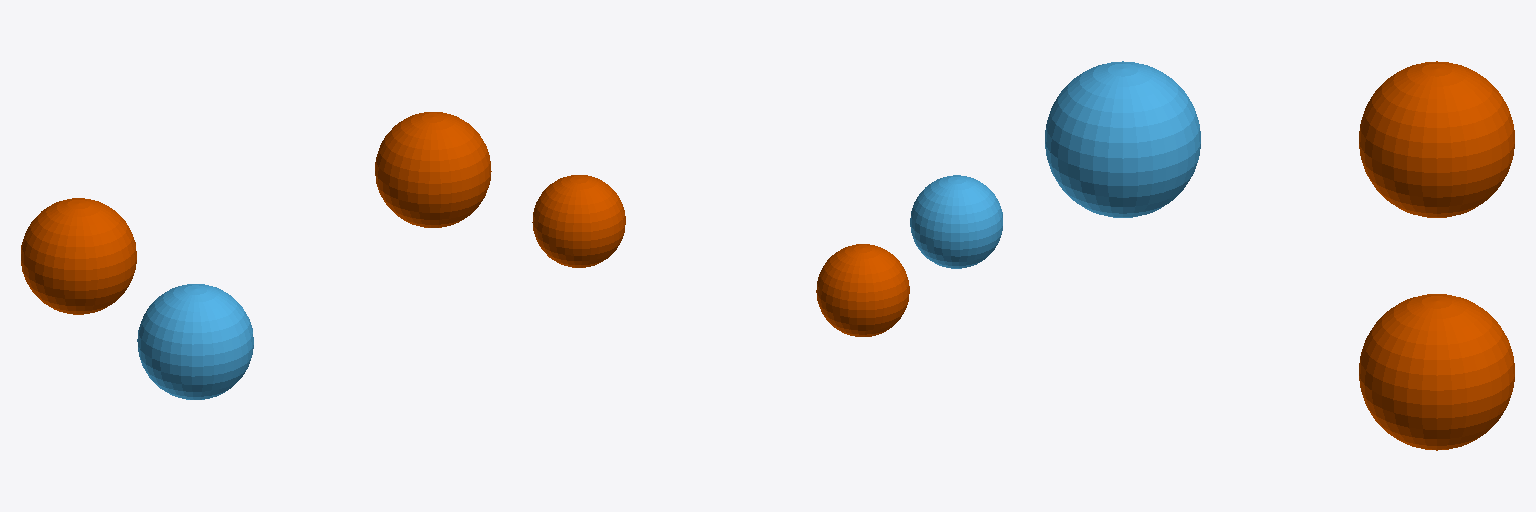
URDF robot description (mini_cheetah):
<?xml version="1.0" ?>
<robot name="mini_cheetah" xmlns:xacro="http://ros.org/wiki/xacro">
    <link name="body">
        <inertial>
            <mass value="3.3"/>
            <origin xyz="0.0 0.0 0.0"/>
            <inertia ixx="0.011253" ixy="0" ixz="0" iyy="0.362030" iyz="0" izz="0.042673"/>
        </inertial>
        <visual>
            <geometry>
                <mesh filename="meshes/mini_body.obj"/>
            </geometry>
            <origin rpy="0.0 0.0 0.0" xyz="0.0 0.0 0.0"/>
        </visual>
        <collision>
            <geometry>
                <mesh filename="meshes/mini_body.obj"/>
            </geometry>
            <origin rpy="0 0 0" xyz="0 0 0"/>
        </collision>
    </link>

    <!--!!!!!!!!!!!! Front Right Leg !!!!!!!!!!!!!!!!!!!!!!!!!!!!!!!!!!!!-->
    <joint name="torso_to_abduct_fr_j" type="continuous">
        <axis xyz="1 0 0"/>
        <origin rpy="0 0 0" xyz="0.19 -0.049 0.0"/>
        <parent link="body"/>
        <child link="abduct_fr"/>
    </joint>
    <link name="abduct_fr">
        <inertial>
            <mass value="0.54"/>
            <origin xyz="0.0 0.036 0."/>
            <inertia ixx="0.000381" ixy="0.000058" ixz="0.00000045" 
                iyy="0.000560" iyz="0.00000095" izz="0.000444"/>
        </inertial>
        <visual>
            <geometry>
                <mesh filename="meshes/mini_abad.obj"/>
            </geometry>
            <origin rpy="0.0 0.0 0.0" xyz="0.0 0.0 0.0"/>
        </visual>
        <collision>
            <geometry>
                <mesh filename="meshes/mini_abad.obj"/>
            </geometry>
            <origin rpy="0 0 0" xyz="0 0 0"/>
        </collision>
    </link>

    <joint name="abduct_fr_to_thigh_fr_j" type="continuous">
        <axis xyz="0 1 0"/>
        <origin rpy="0.0 0.0 0.0" xyz="0.0 -0.062 0.00"/>
        <parent link="abduct_fr"/>
        <child link="thigh_fr"/>
    </joint>
    <link name="thigh_fr">
        <inertial>
            <mass value="0.634"/>
            <origin xyz="0.0 0.016 -0.02"/>
            <inertia ixx="0.001983" ixy="0.000245" ixz="0.000013" 
                iyy="0.002103" iyz="0.0000015" izz="0.000408"/>
        </inertial>
        <visual>
            <geometry>
                <mesh filename="meshes/mini_upper_link.obj"/>
            </geometry>
            <origin rpy="0.0 0.0 0.0" xyz="0.0 0.0 0.0"/>
        </visual>
        <collision>
            <geometry>
                <mesh filename="meshes/mini_upper_link.obj"/>
            </geometry>
            <origin rpy="0 0 0" xyz="0 0 0"/>
        </collision>
    </link>

    <joint name="thigh_fr_to_knee_fr_j" type="continuous">
        <axis xyz="0 1 0"/>
        <origin rpy="0.0 0 0.0" xyz="0.0 0.0 -0.15"/>
        <parent link="thigh_fr"/>
        <child link="shank_fr"/>
    </joint>
    <link name="shank_fr">
        <inertial>
            <mass value="0.064"/>
            <origin xyz="0.0 0.0 -0.209"/>
            <inertia ixx="0.000245" ixy="0" ixz="0.0" iyy="0.000248" iyz="0" izz="0.000006"/>
        </inertial>
        <visual>
            <geometry>
                <mesh filename="meshes/mini_lower_link.obj"/>
            </geometry>
            <origin rpy="0.0 0.0 0.0" xyz="0.0 0.0 0.0"/>
        </visual>
        <collision>
            <geometry>
                <mesh filename="meshes/mini_lower_link.obj"/>
            </geometry>
            <origin rpy="0 0 0" xyz="0 0 0"/>
        </collision>
    </link>

    <joint name="ankle_fr" type="fixed">
        <axis xyz="0 1 0"/>
        <origin rpy="0 0 0" xyz="0.0 0.0 -0.135"/>
        <parent link="shank_fr"/>
        <child link="foot_fr" />
    </joint>
    <link name="foot_fr">
        <inertial>
            <mass value="0.123"/>
            <origin xyz="0.0 0.0 0.0"/>
            <inertia ixx="0.00001" ixy="0" ixz="0.0" iyy="0.00001" iyz="0" izz="0.00001"/>
        </inertial>
        <collision>
            <geometry>
                <sphere radius="0.03"/>
            </geometry>
            <origin rpy="0.0 0.0 0.0" xyz="0.0 0.0 0.0"/>
        </collision>
    </link>

<!--!!!!!!!!!!!! Front Left Leg !!!!!!!!!!!!!!!!!!!!!!!!!!!!!!!!!!!!-->
  <joint name="torso_to_abduct_fl_j" type="continuous">
      <axis xyz="1 0 0"/>
      <origin rpy="0 0 0" xyz="0.175 0.1 0.0"/>
      <parent link="body"/>
      <child link="abduct_fl"/>
  </joint>
  <link name="abduct_fl">
      <inertial>
          <mass value="2.1656"/>
          <origin xyz="0.0 0. 0."/>
          <inertia ixx="0.003735" ixy="0.0" ixz="0.0" iyy="0.01391" iyz="0.0" izz="0.01355"/>
      </inertial>
      <visual>
          <geometry>
              <sphere radius="0.05" />
          </geometry>
          <origin rpy = "0 0 0" xyz = "0.0 0 0"/>
      </visual>
  </link>

  <joint name="abduct_fl_to_thigh_fl_j" type="continuous">
      <axis xyz="0 1 0"/>
      <origin rpy="0.0 0.0 0.0" xyz="0.0 0.02 -0.02"/>
      <parent link="abduct_fl"/>
      <child link="thigh_fl"/>
  </joint>
  <link name="thigh_fl">
      <inertial>
          <mass value="3.2"/>
          <origin xyz="0.0 0.00 -0.075"/>
          <inertia ixx="0.038482" ixy="0" ixz="0.0" iyy="0.039835" iyz="-0.003" izz="0.0042934"/>
      </inertial>
      <visual>
          <geometry>
              <capsule radius="0.05" length="0.12" />
          </geometry>
          <origin rpy = "0 0 0" xyz = "0 0 0"/>
      </visual>
  </link>

  <joint name="thigh_fl_to_knee_fl_j" type="continuous">
      <axis xyz="0 1 0"/>
      <origin rpy="0.0 0 0.0" xyz="0.0 0.0 -0.15"/>
      <parent link="thigh_fl"/>
      <child link="shank_fl"/>
  </joint>
  <link name="shank_fl">
      <inertial>
          <mass value="0.649"/>
          <origin xyz="0.0 0.0 -0.075"/>
          <inertia ixx="0.00338" ixy="0" ixz="0.0" iyy="0.00338" iyz="0" izz="0.000011"/>
      </inertial>
      <visual>
          <geometry>
              <capsule radius="0.05" length="0.12" />
          </geometry>
          <origin rpy = "0 0 0" xyz = "0 0 0"/>
      </visual>
  </link>

  <joint name="ankle_fl" type="fixed">
      <axis xyz="0 1 0"/>
      <origin rpy="0 0 0" xyz="0.0 0.0 -0.135"/>
      <parent link="shank_fl"/>
      <child link="foot_fl" />
  </joint>
  <link name="foot_fl">
      <inertial>
          <mass value="0.123"/>
          <origin xyz="0.0 0.0 0.0"/>
          <inertia ixx="0.00001" ixy="0" ixz="0.0" iyy="0.00001" iyz="0" izz="0.00001"/>
      </inertial>
      <collision>
          <geometry>
              <sphere radius="0.03"/>
          </geometry>
          <origin rpy="0.0 0.0 0.0" xyz="0.0 0.0 0.0"/>
      </collision>
  </link>
<!--!!!!!!!!!!!! Hind Right Leg !!!!!!!!!!!!!!!!!!!!!!!!!!!!!!!!!!!!-->
  <joint name="torso_to_abduct_hr_j" type="continuous">
      <axis xyz="1 0 0"/>
      <origin rpy="0 0 0" xyz="-0.175 -0.1 0.0"/>
      <parent link="body"/>
      <child link="abduct_hr"/>
  </joint>
  <link name="abduct_hr">
      <inertial>
          <mass value="2.1656"/>
          <origin xyz="0.0 0. 0."/>
          <inertia ixx="0.003735" ixy="0.0" ixz="0.0" iyy="0.01391" iyz="0.0" izz="0.01355"/>
      </inertial>
      <visual>
          <geometry>
              <sphere radius="0.05" />
          </geometry>
          <origin rpy = "0 0 0" xyz = "0.0 0 0"/>
      </visual>
  </link>

  <joint name="abduct_hr_to_thigh_hr_j" type="continuous">
      <axis xyz="0 1 0"/>
      <origin rpy="0.0 0.0 0.0" xyz="0.0 -0.02 -0.02"/>
      <parent link="abduct_hr"/>
      <child link="thigh_hr"/>
  </joint>
  <link name="thigh_hr">
      <inertial>
          <mass value="3.2"/>
          <origin xyz="0.0 0.00 -0.075"/>
          <inertia ixx="0.038482" ixy="0" ixz="0.0" iyy="0.039835" iyz="-0.003" izz="0.0042934"/>
      </inertial>
      <visual>
          <geometry>
              <capsule radius="0.05" length="0.12" />
          </geometry>
          <origin rpy = "0 0 0" xyz = "0 0 0"/>
      </visual>
  </link>

  <joint name="thigh_hr_to_knee_hr_j" type="continuous">
      <axis xyz="0 1 0"/>
      <origin rpy="0.0 0 0.0" xyz="0.0 0.0 -0.15"/>
      <parent link="thigh_hr"/>
      <child link="shank_hr"/>
  </joint>
  <link name="shank_hr">
      <inertial>
          <mass value="0.649"/>
          <origin xyz="0.0 0.0 -0.075"/>
          <inertia ixx="0.00338" ixy="0" ixz="0.0" iyy="0.00338" iyz="0" izz="0.000011"/>
      </inertial>
      <visual>
          <geometry>
              <capsule radius="0.05" length="0.12" />
          </geometry>
          <origin rpy = "0 0 0" xyz = "0 0 0"/>
      </visual>
  </link>

  <joint name="ankle_hr" type="fixed">
      <axis xyz="0 1 0"/>
      <origin rpy="0 0 0" xyz="0.0 0.0 -0.135"/>
      <parent link="shank_hr"/>
      <child link="foot_hr" />
  </joint>
  <link name="foot_hr">
      <inertial>
          <mass value="0.123"/>
          <origin xyz="0.0 0.0 0.0"/>
          <inertia ixx="0.00001" ixy="0" ixz="0.0" iyy="0.00001" iyz="0" izz="0.00001"/>
      </inertial>
      <collision>
          <geometry>
              <sphere radius="0.03"/>
          </geometry>
          <origin rpy="0.0 0.0 0.0" xyz="0.0 0.0 0.0"/>
      </collision>
  </link>
<!--!!!!!!!!!!!! Hind Left Leg !!!!!!!!!!!!!!!!!!!!!!!!!!!!!!!!!!!!-->
  <joint name="torso_to_abduct_hl_j" type="continuous">
      <axis xyz="1 0 0"/>
      <origin rpy="0 0 0" xyz="-0.175 0.1 0.0"/>
      <parent link="body"/>
      <child link="abduct_hl"/>
  </joint>
  <link name="abduct_hl">
      <inertial>
          <mass value="2.1656"/>
          <origin xyz="0.0 0. 0."/>
          <inertia ixx="0.003735" ixy="0.0" ixz="0.0" iyy="0.01391" iyz="0.0" izz="0.01355"/>
      </inertial>
      <visual>
          <geometry>
              <sphere radius="0.05" />
          </geometry>
          <origin rpy = "0 0 0" xyz = "0.0 0 0"/>
      </visual>
  </link>

  <joint name="abduct_hl_to_thigh_hl_j" type="continuous">
      <axis xyz="0 1 0"/>
      <origin rpy="0.0 0.0 0.0" xyz="0.0 0.02 -0.02"/>
      <parent link="abduct_hl"/>
      <child link="thigh_hl"/>
  </joint>
  <link name="thigh_hl">
      <inertial>
          <mass value="3.2"/>
          <origin xyz="0.0 0.00 -0.075"/>
          <inertia ixx="0.038482" ixy="0" ixz="0.0" iyy="0.039835" iyz="-0.003" izz="0.0042934"/>
      </inertial>
      <visual>
          <geometry>
              <capsule radius="0.05" length="0.12" />
          </geometry>
          <origin rpy = "0 0 0" xyz = "0 0 0"/>
      </visual>
  </link>

  <joint name="thigh_hl_to_knee_hl_j" type="continuous">
      <axis xyz="0 1 0"/>
      <origin rpy="0.0 0 0.0" xyz="0.0 0.0 -0.15"/>
      <parent link="thigh_hl"/>
      <child link="shank_hl"/>
  </joint>
  <link name="shank_hl">
      <inertial>
          <mass value="0.649"/>
          <origin xyz="0.0 0.0 -0.075"/>
          <inertia ixx="0.00338" ixy="0" ixz="0.0" iyy="0.00338" iyz="0" izz="0.000011"/>
      </inertial>
      <visual>
          <geometry>
              <capsule radius="0.05" length="0.12" />
          </geometry>
          <origin rpy = "0 0 0" xyz = "0 0 0"/>
      </visual>
  </link>

  <joint name="ankle_hl" type="fixed">
      <axis xyz="0 1 0"/>
      <origin rpy="0 0 0" xyz="0.0 0.0 -0.135"/>
      <parent link="shank_hl"/>
      <child link="foot_hl" />
  </joint>
  <link name="foot_hl">
      <inertial>
          <mass value="0.123"/>
          <origin xyz="0.0 0.0 0.0"/>
          <inertia ixx="0.00001" ixy="0" ixz="0.0" iyy="0.00001" iyz="0" izz="0.00001"/>
      </inertial>
      <collision>
          <geometry>
              <sphere radius="0.03"/>
          </geometry>
          <origin rpy="0.0 0.0 0.0" xyz="0.0 0.0 0.0"/>
      </collision>
  </link>
</robot>

--- Facts derived from the render (not from the file) ---
The picture shows the robot from 3 angles, left to right: view 1: azimuth 30°, elevation 25°; view 2: azimuth 150°, elevation 25°; view 3: azimuth 270°, elevation 25°; orthographic projection.
Model mini_cheetah with 17 links and 16 joints (12 continuous, 4 fixed), rooted at body, posed all joints at 0.
Links seen in each view (by area): view 1: abduct_hl, abduct_fl, abduct_hr; view 2: abduct_hr, abduct_hl, abduct_fl; view 3: abduct_fl, abduct_hr, abduct_hl.
Boxes of the visible links, x1,y1,x2,y2 form: abduct_hl: [21, 198, 136, 314]; abduct_fl: [375, 112, 491, 227]; abduct_hr: [137, 284, 253, 399]; abduct_hr: [910, 175, 1002, 268]; abduct_hl: [816, 244, 909, 336]; abduct_fl: [532, 175, 625, 267]; abduct_fl: [1359, 294, 1514, 450]; abduct_hr: [1045, 61, 1200, 217]; abduct_hl: [1359, 61, 1514, 217].
Size in the robot's own frame: 0.45 by 0.3 by 0.1 metres.
Meshes: 4 distinct files referenced, 0 mesh visuals loaded (none loaded); not drawn: 4 (reference not matched to a file when rendering).